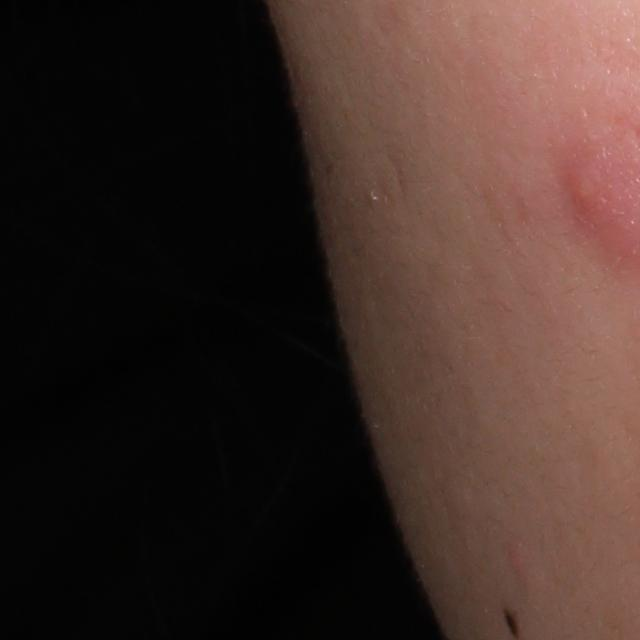papule: (569, 151, 638, 238), (506, 544, 533, 579)
